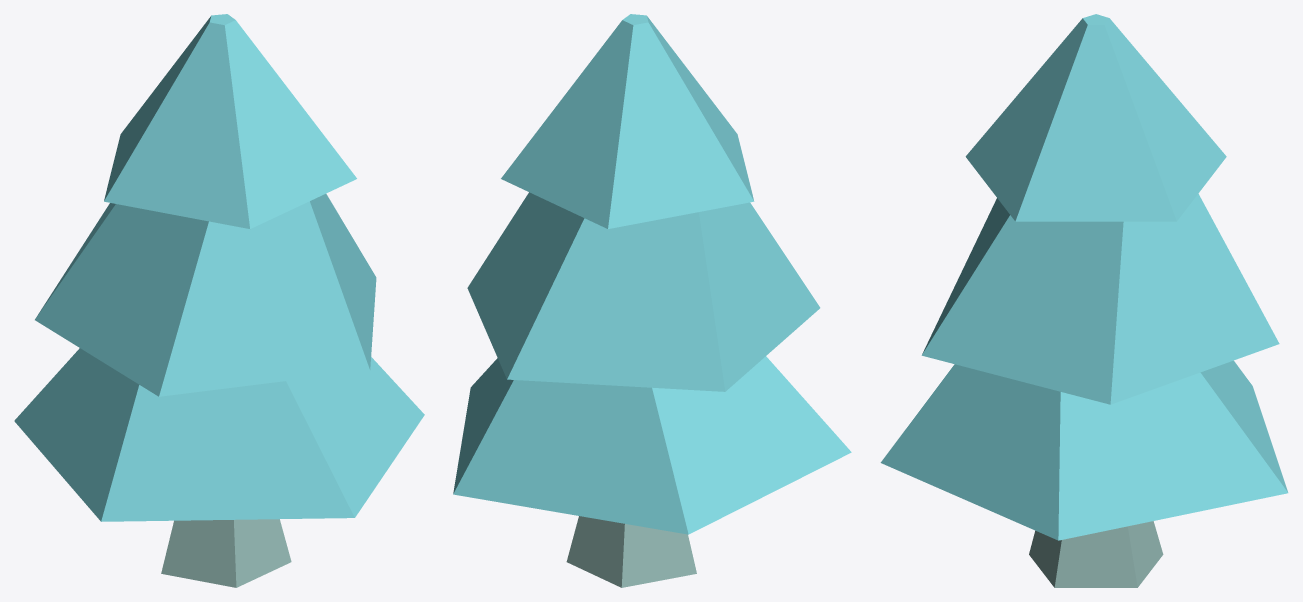
The model's file is blueTree2.fbx.
3 views of the same model, side by side, from view 1: azimuth 30°, elevation 25°; view 2: azimuth 150°, elevation 25°; view 3: azimuth 270°, elevation 25° (orthographic).
Parts seen in each view (by area): view 1: Cylinder.118, Cylinder.000; view 2: Cylinder.118, Cylinder.000; view 3: Cylinder.118, Cylinder.000.
Boxes of the visible parts, x1=… form: Cylinder.118: x1=14, y1=14, x2=424, y2=521; Cylinder.000: x1=161, y1=519, x2=291, y2=587; Cylinder.118: x1=453, y1=14, x2=851, y2=534; Cylinder.000: x1=566, y1=516, x2=696, y2=587; Cylinder.118: x1=880, y1=14, x2=1288, y2=540; Cylinder.000: x1=1029, y1=521, x2=1163, y2=587.
Bounding box in the file's own units: 493 × 721 × 490.
